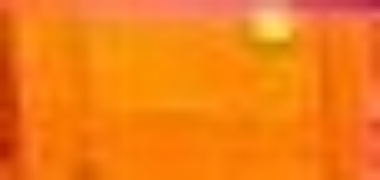Hotspot: (246, 9, 296, 47)
